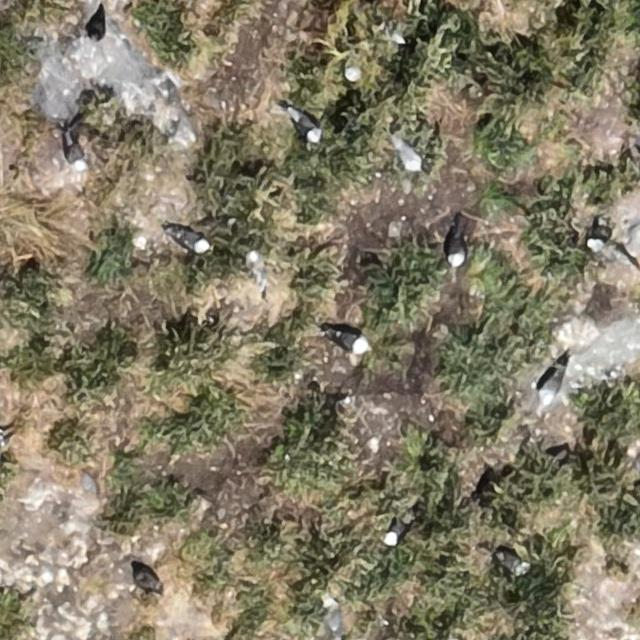umineko: (539, 355, 566, 408), (345, 40, 377, 83), (324, 596, 345, 635), (330, 330, 367, 352), (292, 112, 319, 142), (173, 230, 209, 252), (396, 142, 421, 170), (497, 550, 526, 572), (65, 140, 86, 170), (448, 234, 466, 266), (385, 518, 407, 544)
